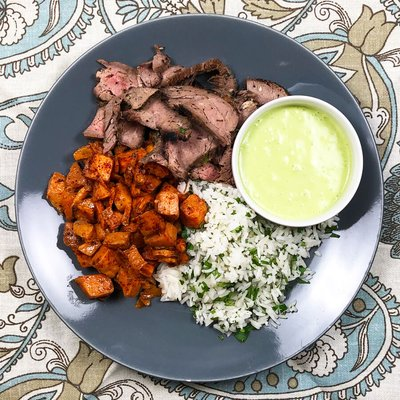curry: (160, 182, 323, 343)
sushi: (231, 95, 365, 228)
